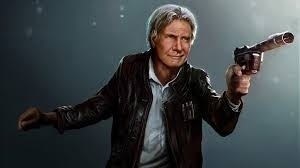pistol: (232, 29, 294, 71)
